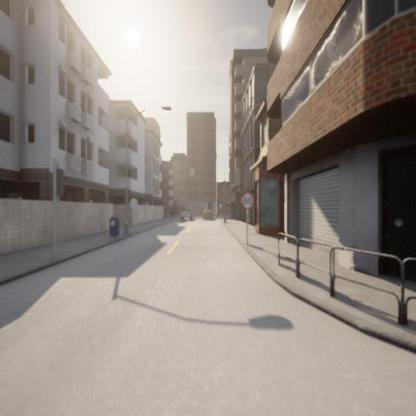traffic_sign_60: (241, 192, 253, 208)
